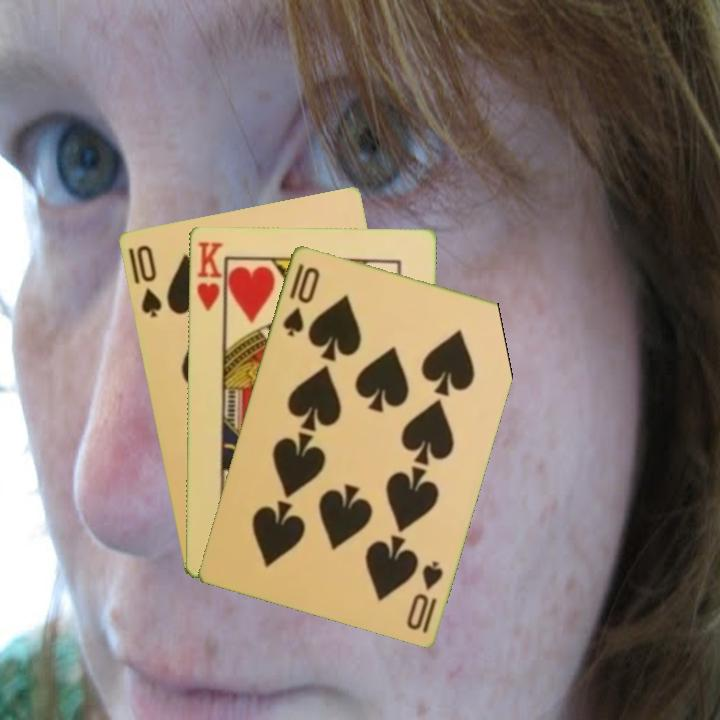10s: (278, 259, 323, 339), (402, 556, 446, 636), (132, 241, 164, 320)
Kh: (193, 237, 226, 320)
